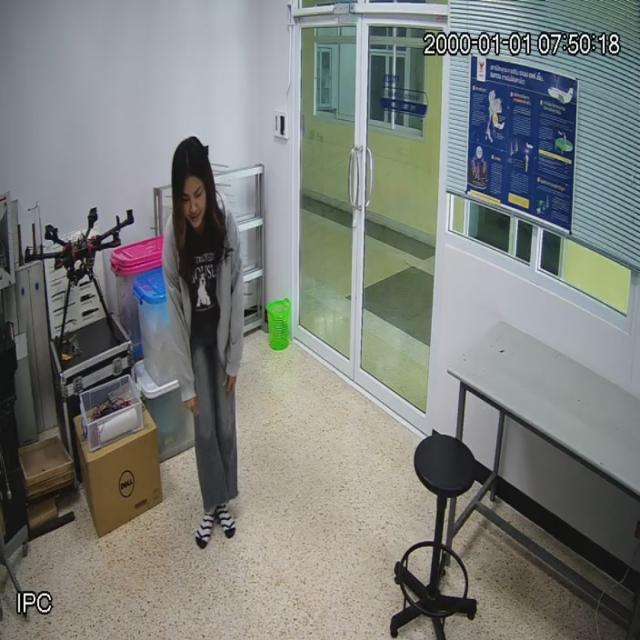normal: (164, 138, 244, 536)
